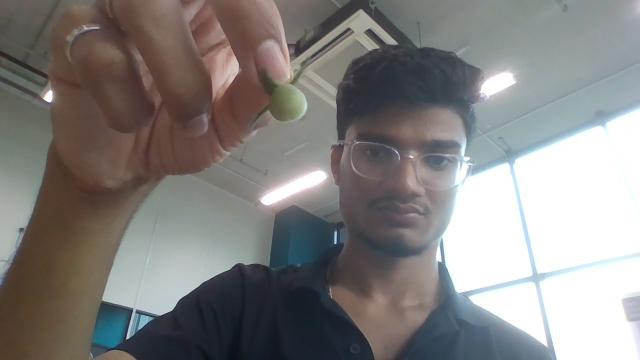Fruit Maturation: (268, 83, 308, 124)
